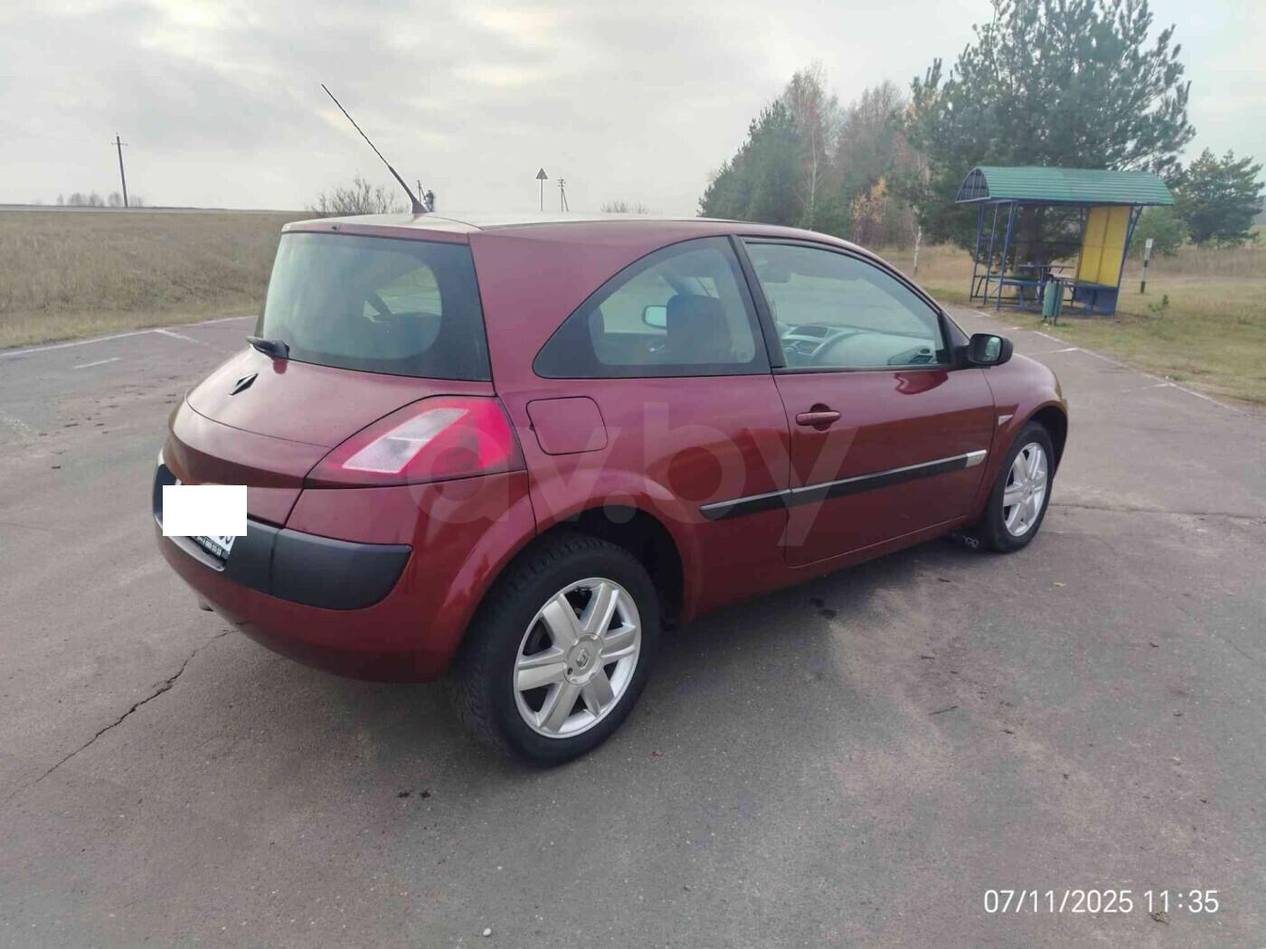Megane_2002-2006: (132, 208, 1068, 776)
